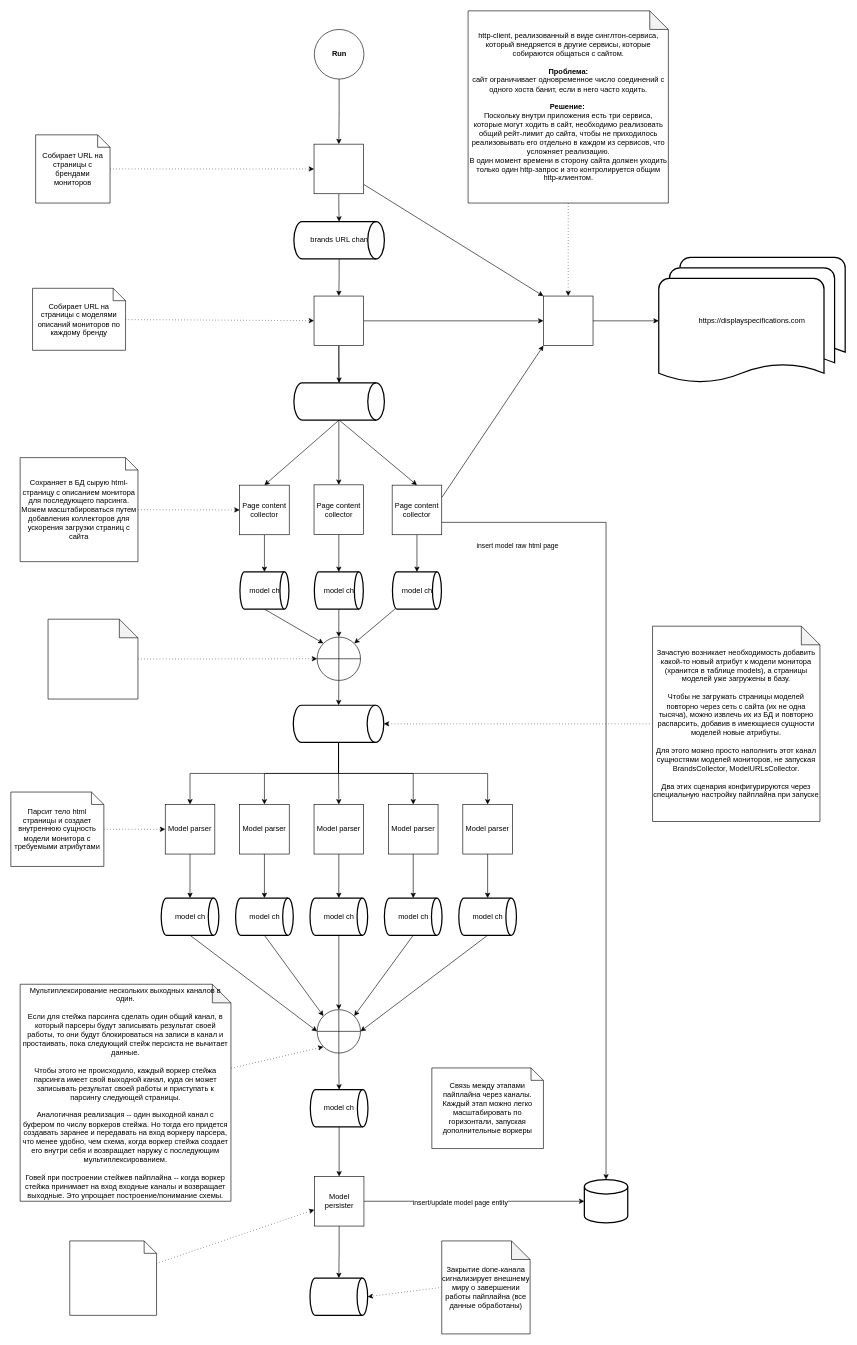
The diagram is 857 pixels wide and 1345 high, and some of its shapes have lost their labels. The centre of each missing label's shape, as x and y in pixels:
"Brands URL Collector" goes at pixel 338 169.
"done ch" goes at pixel 338 1296.
"http-client with rate-limit" goes at pixel 568 320.
"model channel" goes at pixel 338 723.
"model URLs chan" goes at pixel 339 401.
"Model URLs Collector" goes at pixel 338 320.
"postgres" goes at pixel 605 1201.
"мультиплексор каналов. out1, out2, out3 => out4" goes at pixel 92 659.
"Сохраняет в БД сущность модели (или обновляет)" goes at pixel 113 1277.
